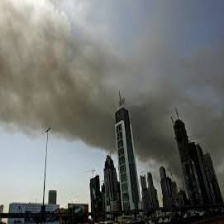smoke: (1, 1, 196, 143)
